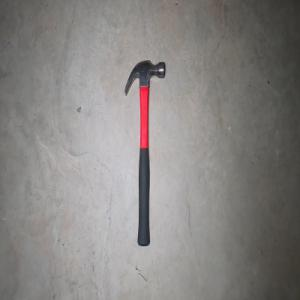Hammer: (123, 59, 165, 247)
